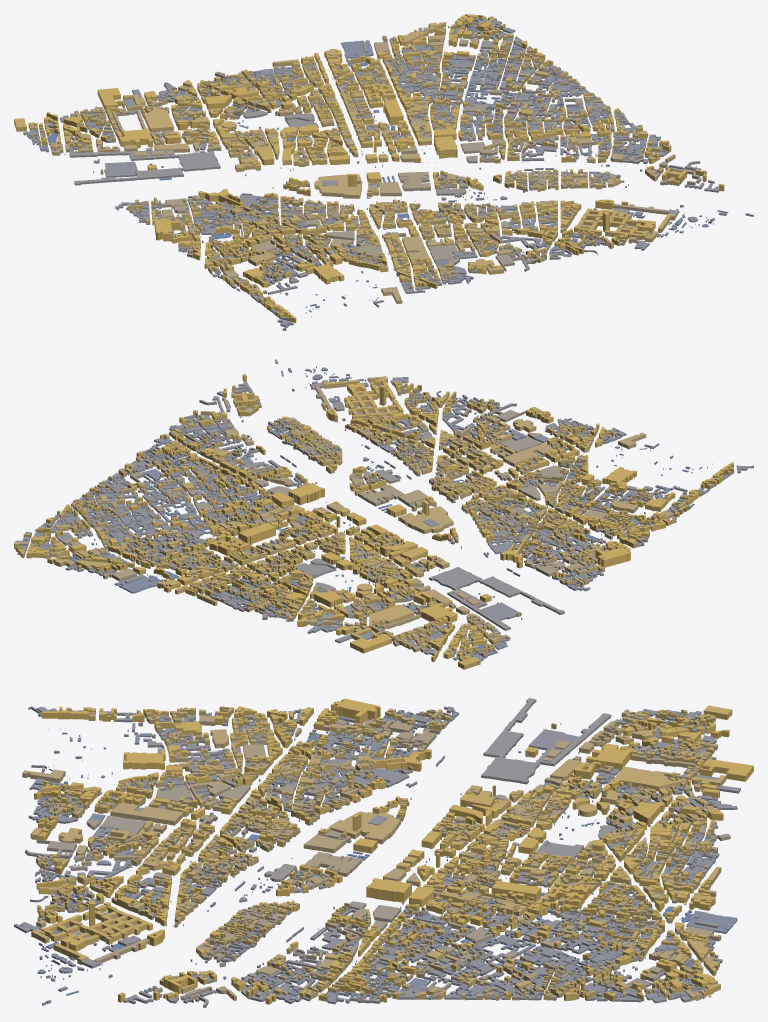
Rendered from buildings.glb.
The picture shows the model from 3 angles, top to bottom: view 1: azimuth 30°, elevation 25°; view 2: azimuth 150°, elevation 25°; view 3: azimuth 270°, elevation 25°; orthographic projection. The views are drawn at different scales.
Visible parts, largest first — view 1: buildings; view 2: buildings; view 3: buildings.
Boxes of the visible parts, box(x1,y1,x2,y2) form: buildings: box(14, 14, 753, 330); buildings: box(14, 359, 753, 669); buildings: box(14, 698, 753, 1007).
Size of the model in its own units: 2564 by 103 by 2647.
